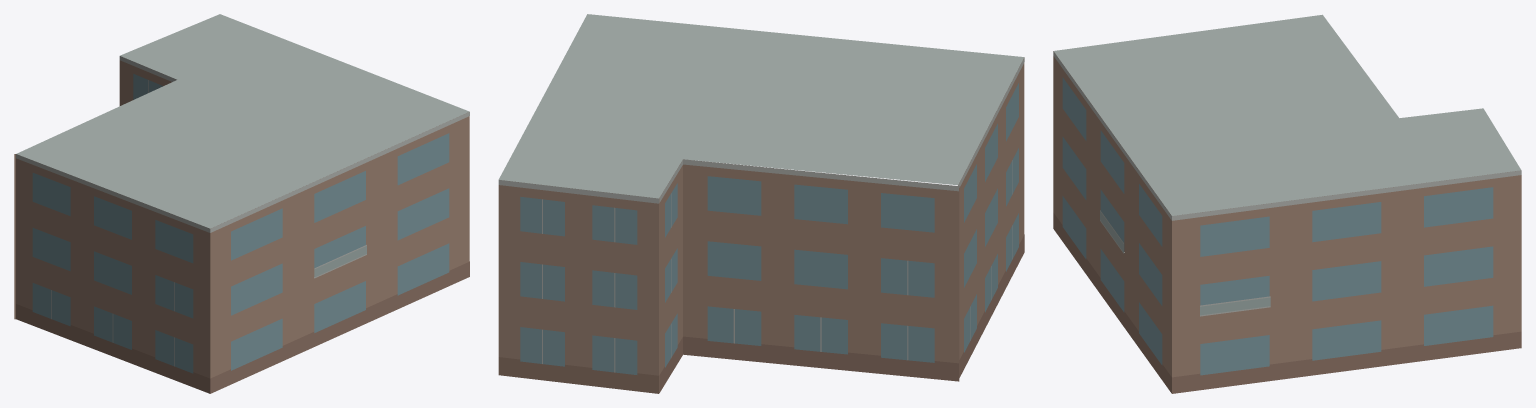
The model's file is survey-upis-32938283.glb.
The picture shows the model from 3 angles, left to right: view 1: azimuth 30°, elevation 25°; view 2: azimuth 150°, elevation 25°; view 3: azimuth 270°, elevation 25°; orthographic projection. The views are drawn at different scales.
Parts seen in each view (by area): view 1: survey-upis-32938283.tmp; view 2: survey-upis-32938283.tmp; view 3: survey-upis-32938283.tmp.
Part boxes in pixels (box(x1,y1,x2,y2)): survey-upis-32938283.tmp: box(14, 14, 469, 393); survey-upis-32938283.tmp: box(498, 14, 1024, 393); survey-upis-32938283.tmp: box(1053, 14, 1521, 393).
Bounding box in the file's own units: 22.32 × 9.15 × 21.84.
